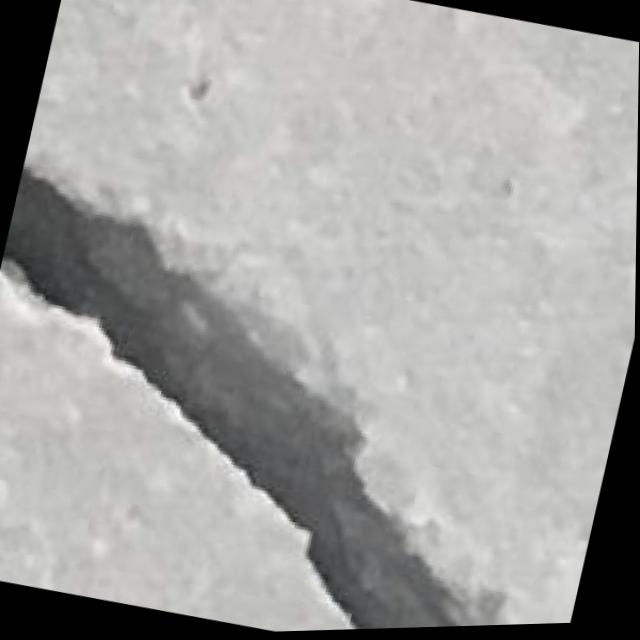Crack: (0, 141, 605, 640)
